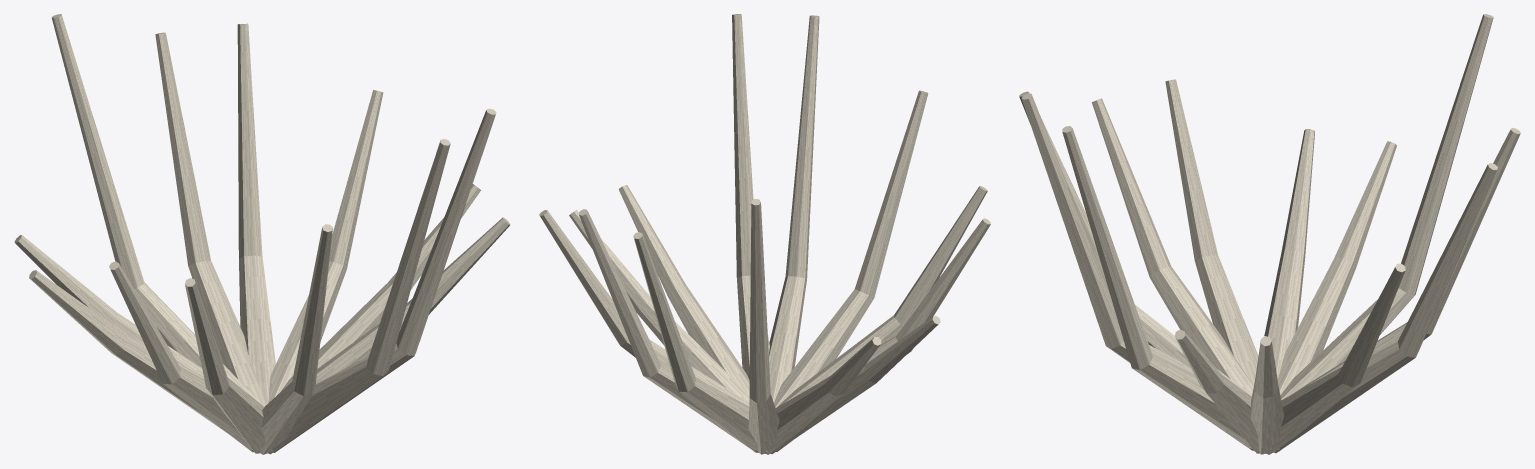
Rendered from cave-and-crystal-networks-helictites-2c4ca1d2.glb.
3 renders of one model, left to right at view 1: azimuth 30°, elevation 25°; view 2: azimuth 150°, elevation 25°; view 3: azimuth 270°, elevation 25°, orthographic. The views are drawn at different scales.
Visible parts, largest first — view 1: helictites; view 2: helictites; view 3: helictites.
Part boxes in pixels (<box>): helictites: <box>14,14,510,454</box>; helictites: <box>539,14,990,454</box>; helictites: <box>1019,14,1520,454</box>.
Size of the model in its own units: 0.806 by 0.6794 by 0.8003.
1 material, 1 textured.
